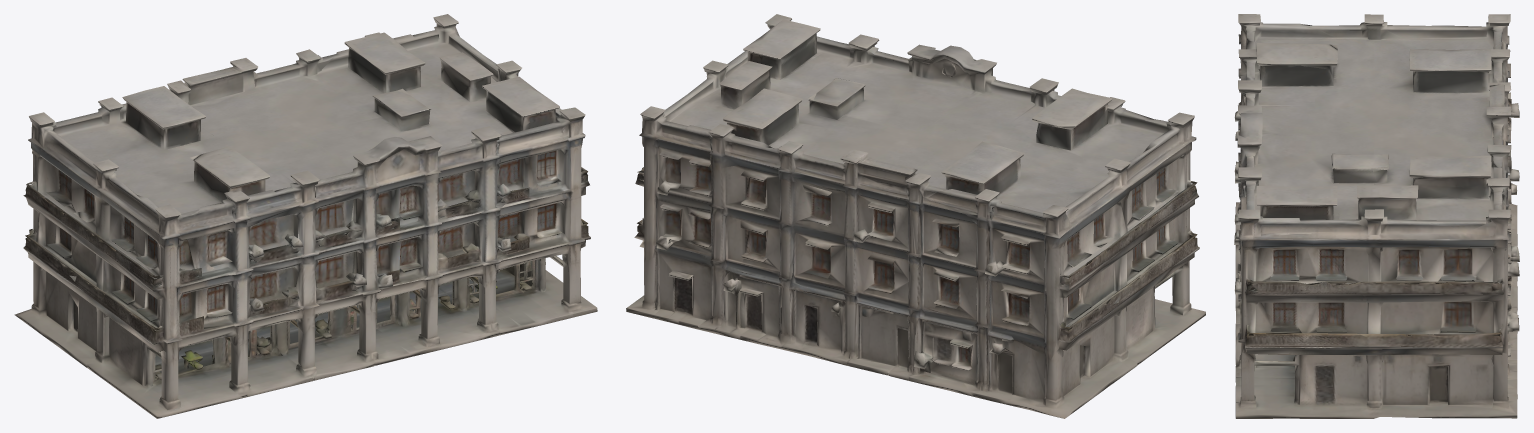
Rendered from urban_building_63.glb.
3 renders of one model, left to right at view 1: azimuth 30°, elevation 25°; view 2: azimuth 150°, elevation 25°; view 3: azimuth 270°, elevation 25°, orthographic.
Visible parts, largest first — view 1: tripo_node_9ff85f9d-44f3-424e-bc85-3af9cb9b7de9; view 2: tripo_node_9ff85f9d-44f3-424e-bc85-3af9cb9b7de9; view 3: tripo_node_9ff85f9d-44f3-424e-bc85-3af9cb9b7de9.
Part boxes in pixels (x1,y1,x2,y2): tripo_node_9ff85f9d-44f3-424e-bc85-3af9cb9b7de9: (14, 14, 597, 418); tripo_node_9ff85f9d-44f3-424e-bc85-3af9cb9b7de9: (626, 14, 1205, 418); tripo_node_9ff85f9d-44f3-424e-bc85-3af9cb9b7de9: (1234, 14, 1519, 418).
Size of the model in its own units: 0.9784 by 0.4487 by 0.5543.
1 material, 1 textured.
